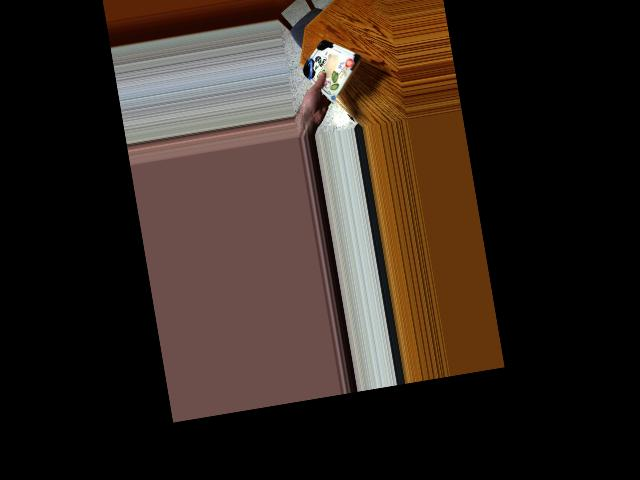cheese: (306, 37, 357, 99)
